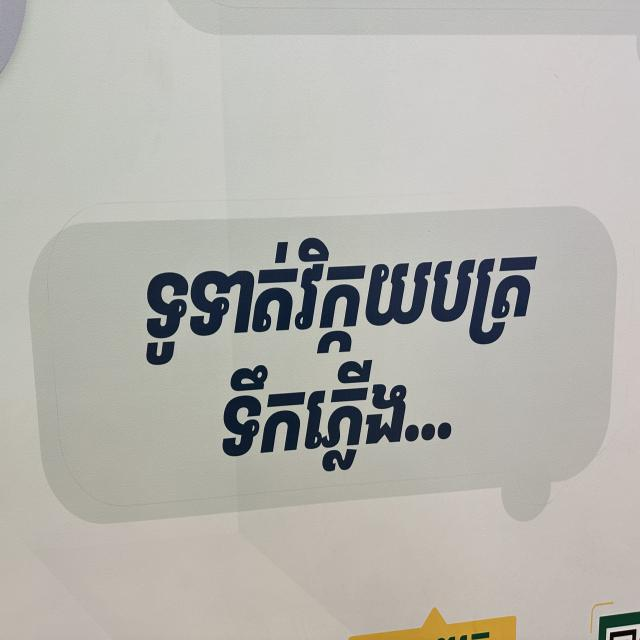Yolov11_80vkh: (131, 228, 554, 386), (206, 372, 466, 475)
